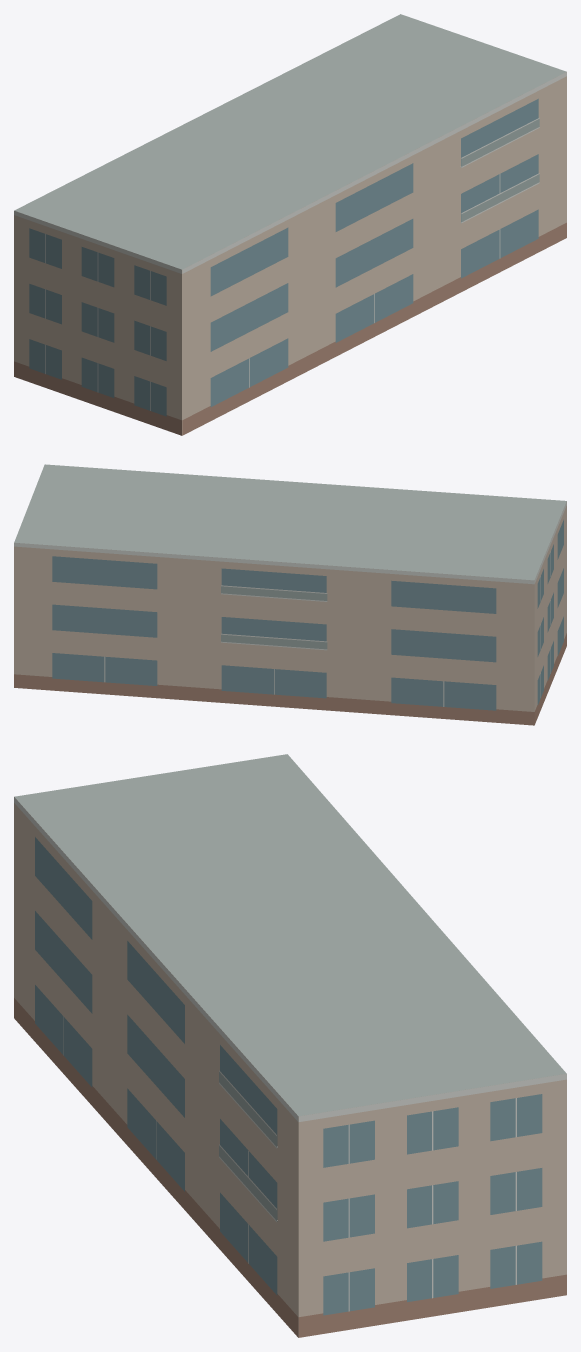
Rendered from survey-upis-32853655.glb.
The picture shows the model from 3 angles, top to bottom: view 1: azimuth 30°, elevation 25°; view 2: azimuth 150°, elevation 25°; view 3: azimuth 270°, elevation 25°; orthographic projection. The views are drawn at different scales.
Parts seen in each view (by area): view 1: survey-upis-32853655.tmp; view 2: survey-upis-32853655.tmp; view 3: survey-upis-32853655.tmp.
Part boxes in pixels (x1,y1,x2,y2): survey-upis-32853655.tmp: (14, 14, 566, 435); survey-upis-32853655.tmp: (14, 464, 566, 725); survey-upis-32853655.tmp: (14, 754, 566, 1337).
Size of the model in its own units: 32.1 by 9.15 by 20.7.
